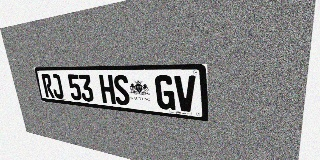3: (78, 74, 94, 102)
5: (67, 74, 82, 101)
G: (154, 75, 175, 110)
H: (99, 75, 116, 104)
J: (50, 74, 64, 99)
R: (41, 74, 55, 98)
S: (112, 75, 131, 106)
V: (174, 75, 196, 113)
